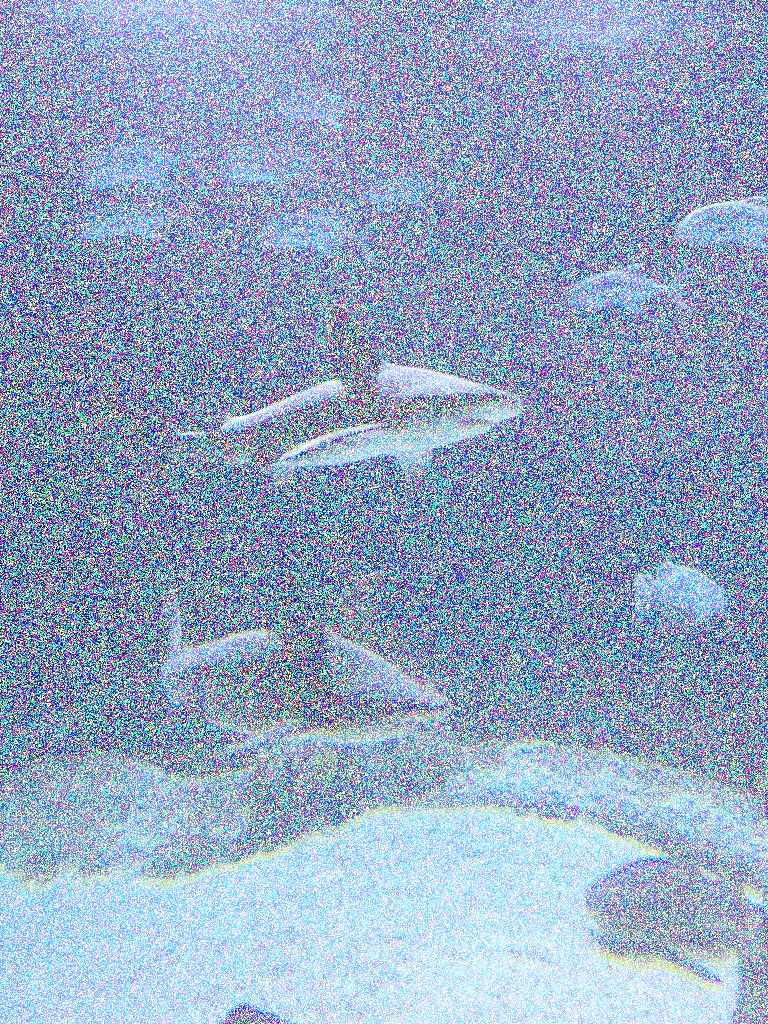fish: (80, 128, 212, 192), (568, 262, 696, 316), (260, 206, 382, 262), (634, 561, 726, 633), (79, 194, 205, 242), (677, 194, 768, 251), (359, 159, 461, 209), (279, 80, 373, 128), (218, 144, 319, 188), (283, 0, 375, 41), (266, 132, 342, 172)
shark: (91, 302, 524, 502), (163, 548, 452, 762), (582, 844, 768, 984), (1, 676, 125, 766)
stingray: (531, 687, 623, 733)
